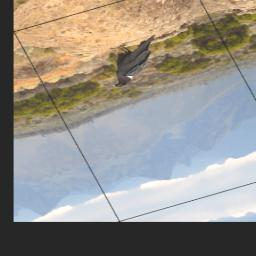Crow: (92, 32, 178, 91)
